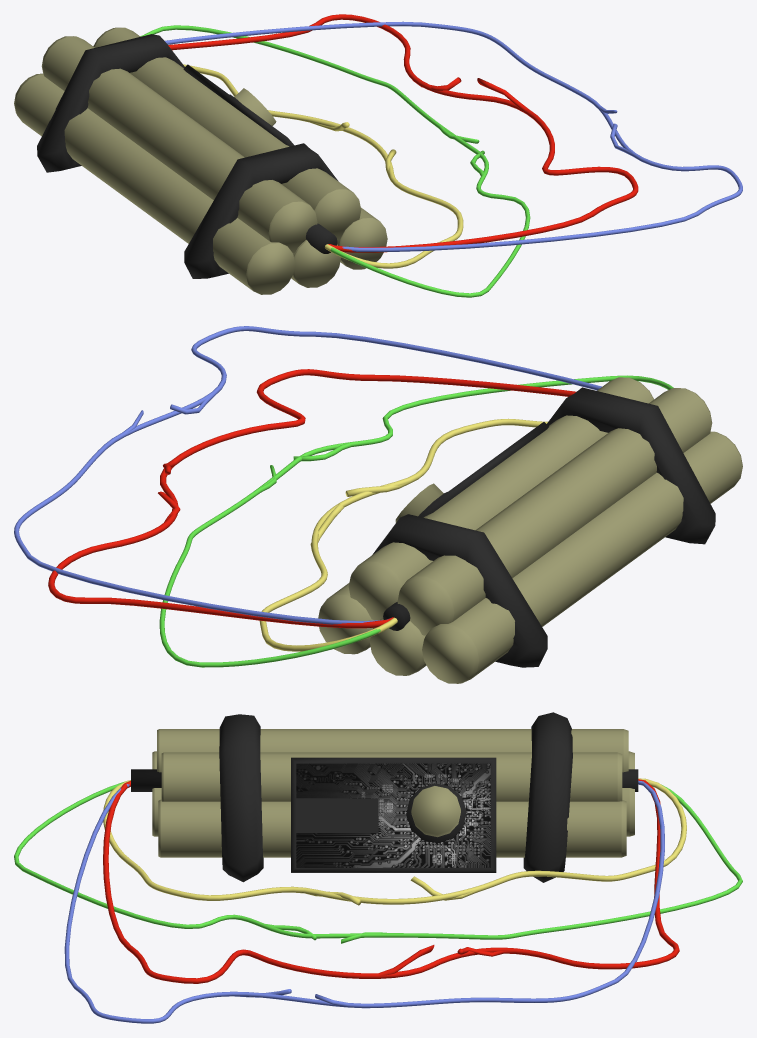
File: Bomb.fbx
3 renders of one model, top to bottom at view 1: azimuth 30°, elevation 25°; view 2: azimuth 150°, elevation 25°; view 3: azimuth 270°, elevation 25°, orthographic. The views are drawn at different scales.
Parts seen in each view (by area): view 1: Dynamite, BlackParts, 4BCable, 3RCable, 2GCable, 1YCable, 3RCableCut, 4BCableCut, 2GCableCut, 1YCableCut, Button; view 2: Dynamite, BlackParts, 3RCable, 4BCable, 2GCable, 1YCable, 4BCableCut, 3RCableCut, 2GCableCut, 1YCableCut, Button; view 3: BlackParts, Dynamite, 3RCable, 2GCable, 4BCable, 1YCable, Button, 3RCableCut, 2GCableCut, 4BCableCut, 1YCableCut.
Boxes of the visible parts, bbox=[...] form: Dynamite: bbox=[14, 27, 387, 294]; BlackParts: bbox=[37, 34, 338, 278]; 4BCable: bbox=[165, 21, 742, 251]; 3RCable: bbox=[168, 14, 637, 252]; 2GCable: bbox=[140, 25, 530, 297]; 1YCable: bbox=[183, 64, 463, 268]; 3RCableCut: bbox=[169, 40, 638, 252]; 4BCableCut: bbox=[167, 30, 742, 251]; 2GCableCut: bbox=[141, 25, 529, 296]; 1YCableCut: bbox=[298, 119, 463, 267]; Button: bbox=[229, 88, 276, 125]; Dynamite: bbox=[318, 377, 742, 683]; BlackParts: bbox=[372, 387, 715, 667]; 3RCable: bbox=[48, 369, 575, 628]; 4BCable: bbox=[14, 326, 601, 624]; 2GCable: bbox=[159, 375, 673, 667]; 1YCable: bbox=[259, 419, 547, 651]; 4BCableCut: bbox=[122, 326, 599, 624]; 3RCableCut: bbox=[156, 369, 575, 627]; 2GCableCut: bbox=[175, 375, 672, 667]; 1YCableCut: bbox=[275, 419, 547, 651]; Button: bbox=[395, 483, 447, 522]; BlackParts: bbox=[131, 712, 638, 882]; Dynamite: bbox=[152, 729, 634, 857]; 3RCable: bbox=[103, 779, 679, 983]; 2GCable: bbox=[14, 782, 742, 939]; 4BCable: bbox=[65, 781, 664, 1023]; 1YCable: bbox=[103, 778, 686, 904]; Button: bbox=[406, 783, 466, 843]; 3RCableCut: bbox=[103, 779, 660, 983]; 2GCableCut: bbox=[14, 783, 740, 943]; 4BCableCut: bbox=[64, 782, 664, 1023]; 1YCableCut: bbox=[103, 779, 686, 905].
Bounding box in the file's own units: 1025 × 211 × 1255.
